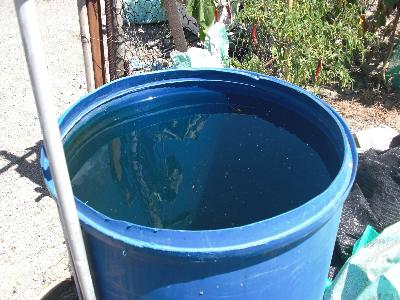bucket: (38, 67, 356, 300)
